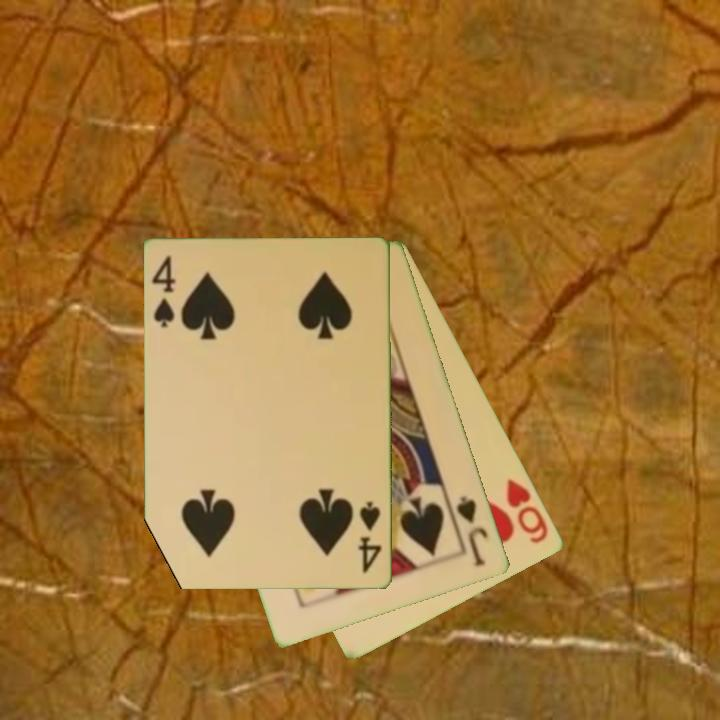4s: (355, 498, 385, 577), (149, 252, 179, 331)
6h: (503, 475, 552, 547)
Js: (453, 492, 491, 570)
